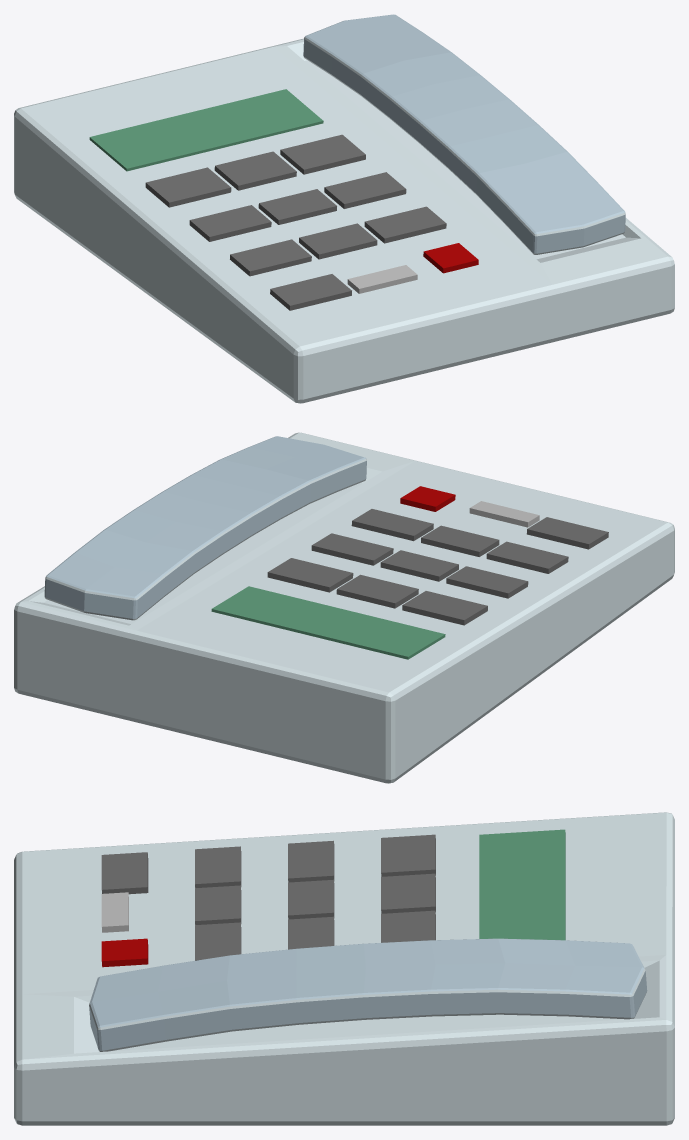
The model's file is Prop_Telephone.fbx.
The picture shows the model from 3 angles, top to bottom: view 1: azimuth 30°, elevation 25°; view 2: azimuth 150°, elevation 25°; view 3: azimuth 270°, elevation 25°; orthographic projection. The views are drawn at different scales.
Parts seen in each view (by area): view 1: Prop_Telephone; view 2: Prop_Telephone; view 3: Prop_Telephone.
Part boxes in pixels (x1,y1,x2,y2): Prop_Telephone: (14,14,674,403); Prop_Telephone: (14,432,674,783); Prop_Telephone: (14,812,674,1125).
Size of the model in its own units: 25.05 by 7.14 by 32.6.
